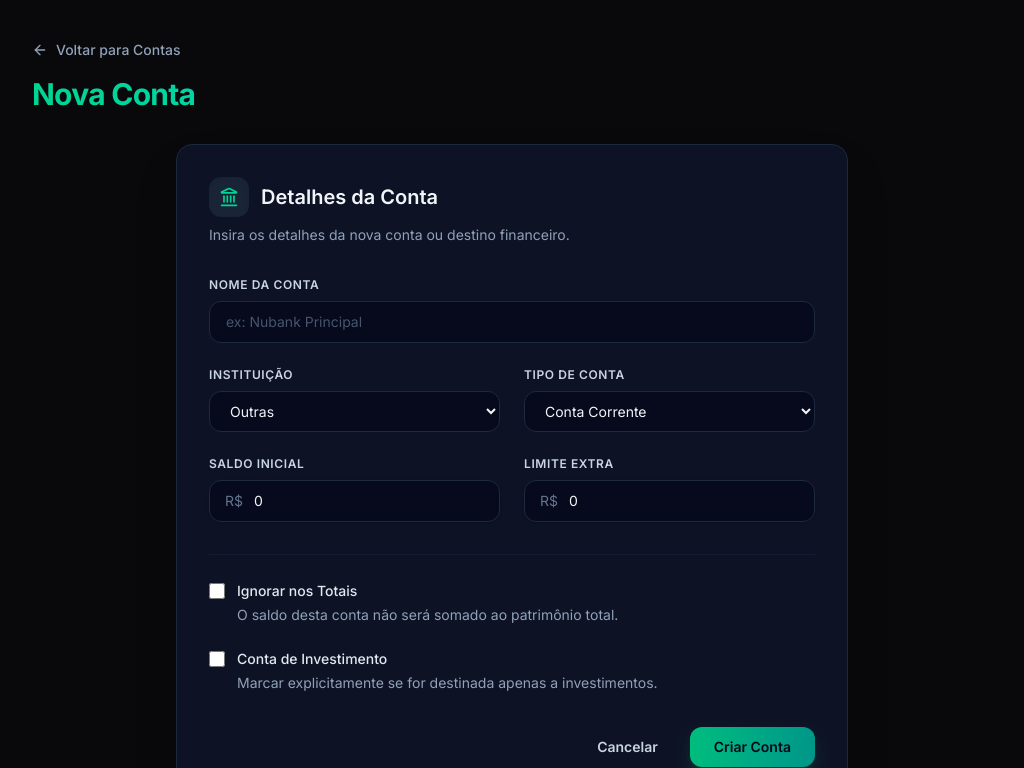
Test case: CreateAccountPage Component › handles error during account creation
Type "Minha Conta Erro" into the field with test id "name" at (512, 322), box [209, 301, 815, 343]
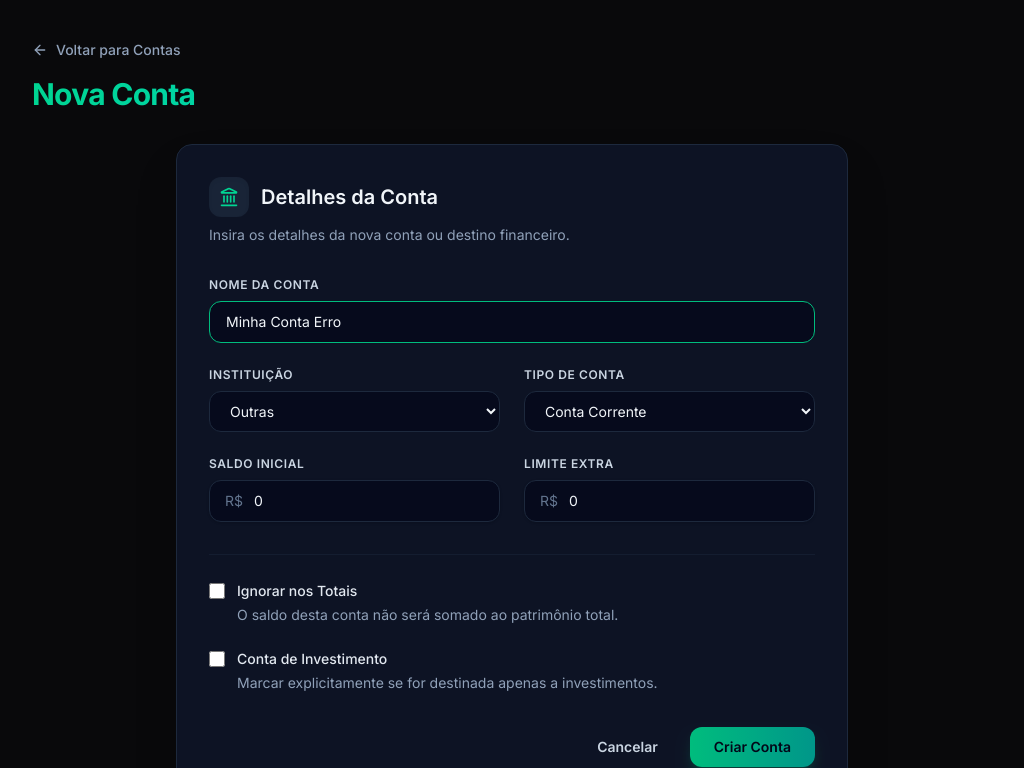
Select "Nubank" in the dropdown with test id "institution" at (354, 412), box [209, 391, 500, 432]
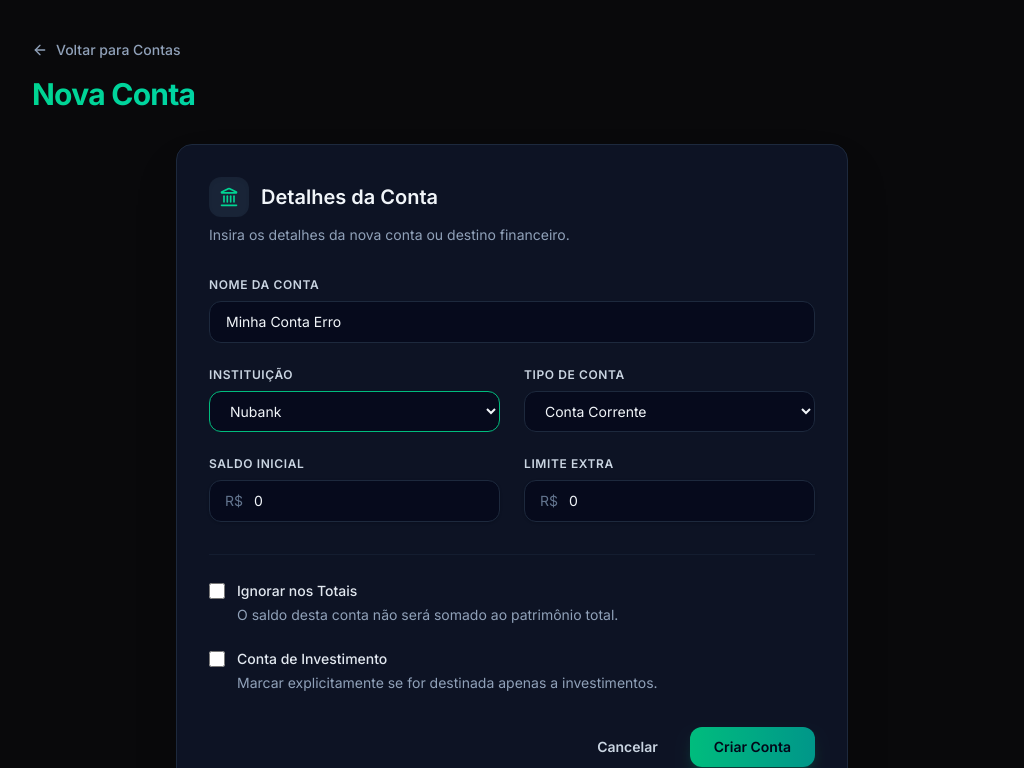
Select "Conta Corrente" in the dropdown with test id "type" at (670, 412), box [524, 391, 815, 432]
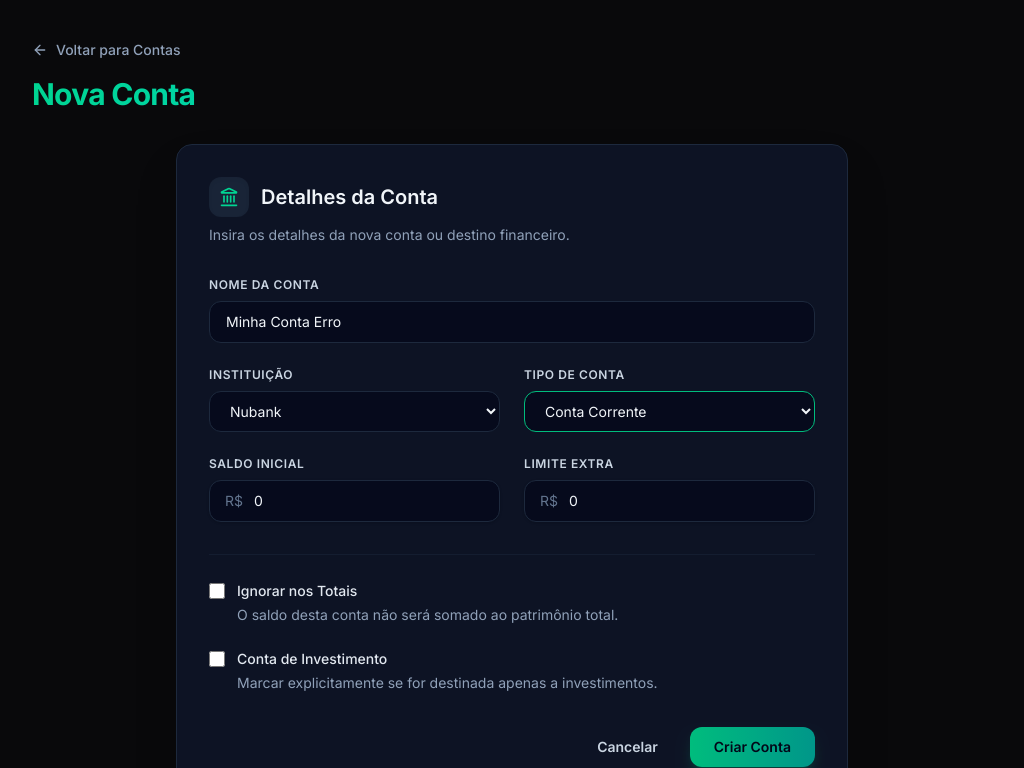
Click the button with test id "btnSubmit" at (752, 747), box [690, 727, 815, 767]
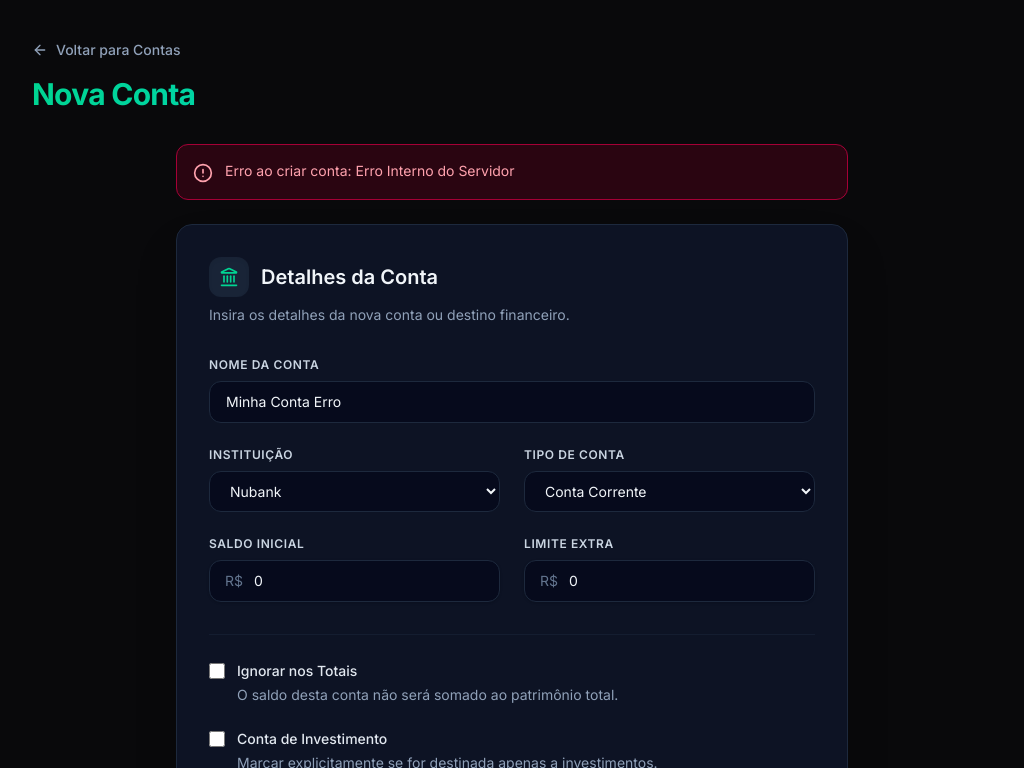
Expected: the text "Erro ao criar conta: Erro Interno do Servidor" is shown, [225, 161, 514, 181]
